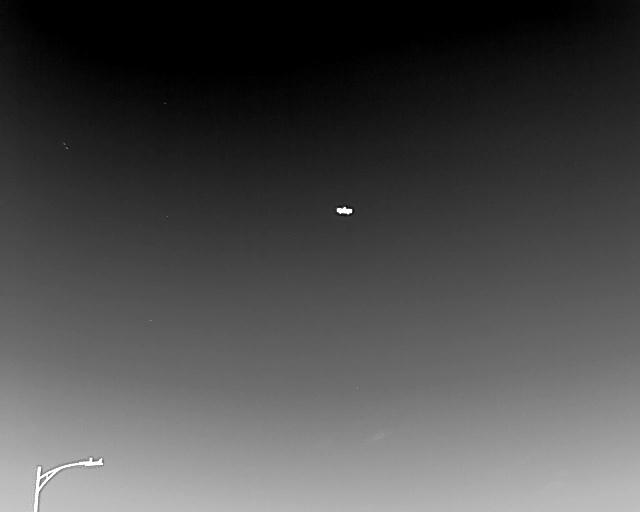fpv-drone: (334, 204, 353, 216)
